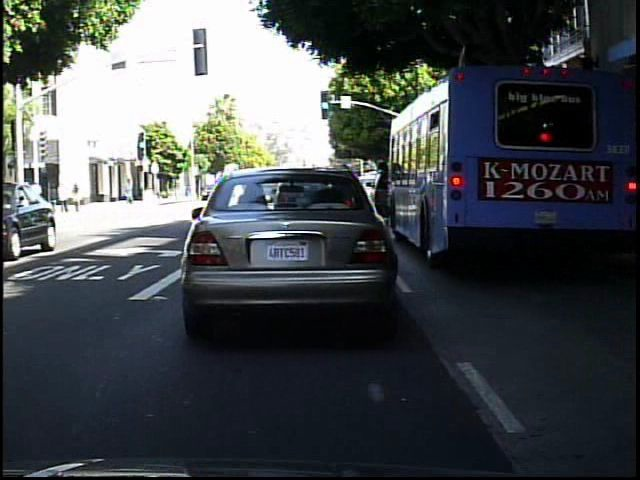person: (57, 176, 74, 216), (14, 179, 30, 218), (29, 177, 44, 218), (8, 179, 25, 215), (121, 173, 139, 207), (69, 176, 85, 214), (47, 180, 63, 217)
